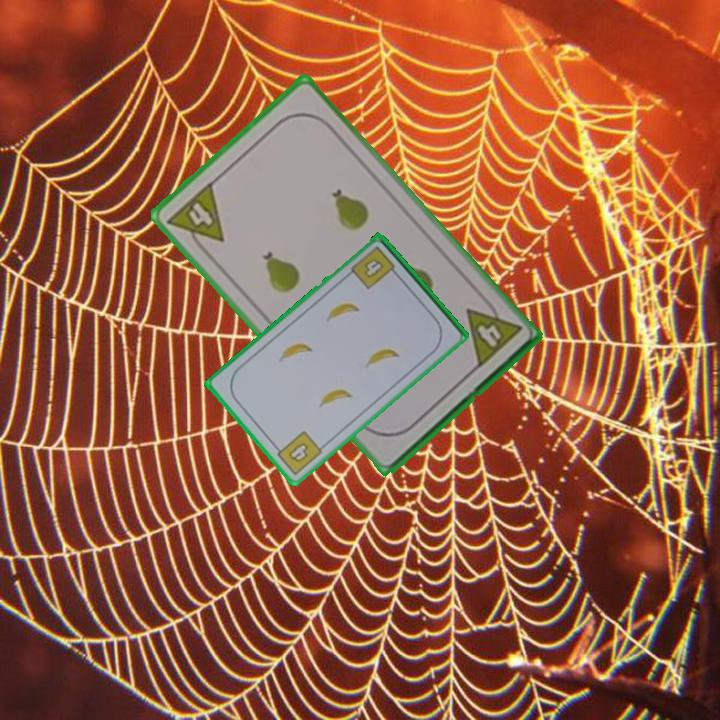4b: (270, 427, 325, 478), (360, 257, 384, 281)
4p: (163, 178, 227, 259), (462, 293, 524, 371)
